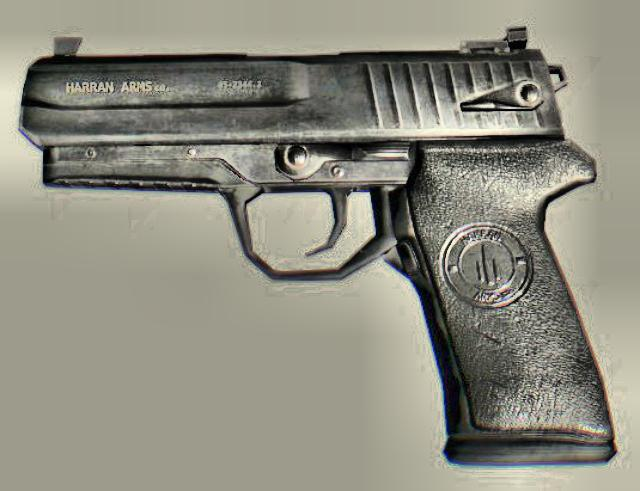pistol: (25, 22, 618, 469)
